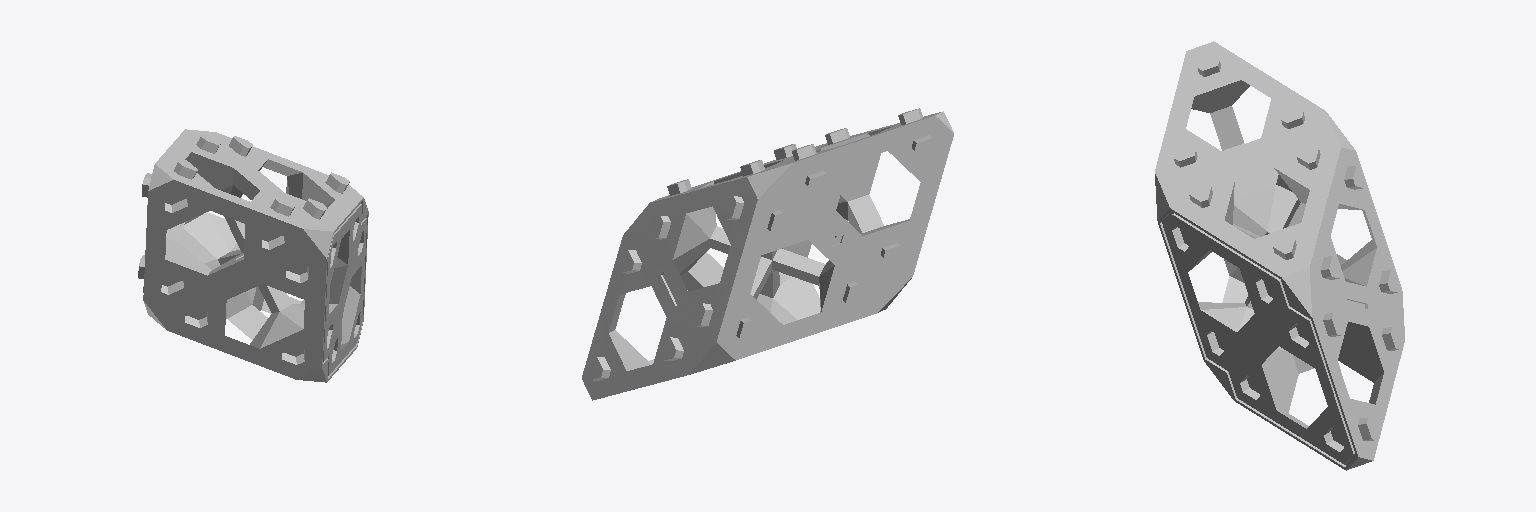
The model's file is octetgamma.obj.
3 views of the same model, side by side, from view 1: azimuth 30°, elevation 25°; view 2: azimuth 150°, elevation 25°; view 3: azimuth 270°, elevation 25° (orthographic).
Visible parts, largest first — view 1: Mesh1 Model; view 2: Mesh1 Model; view 3: Mesh1 Model.
Boxes of the visible parts, x1,y1,x2,y2 form: Mesh1 Model: [138, 129, 368, 382]; Mesh1 Model: [582, 108, 953, 400]; Mesh1 Model: [1155, 41, 1404, 470].
Bounding box in the file's own units: 116 × 112 × 85.36.